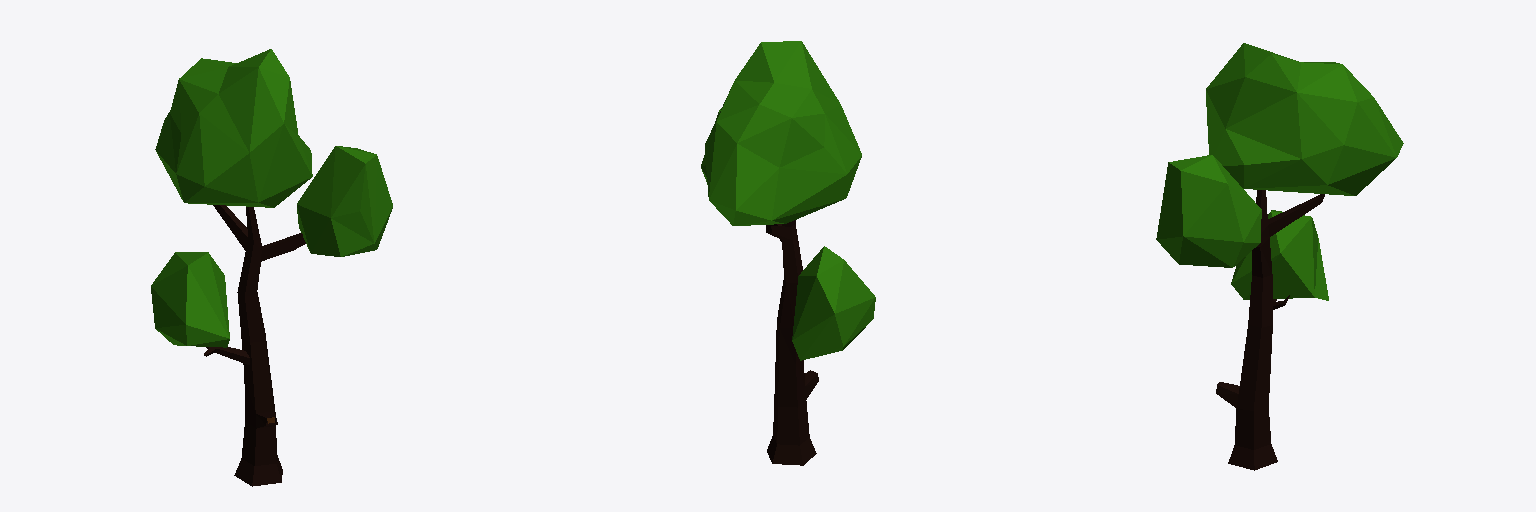
File: tree_lvl_24.obj
3 views of the same model, side by side, from view 1: azimuth 30°, elevation 25°; view 2: azimuth 150°, elevation 25°; view 3: azimuth 270°, elevation 25° (orthographic).
Size of the model in its own units: 4.12 by 9.17 by 4.95.